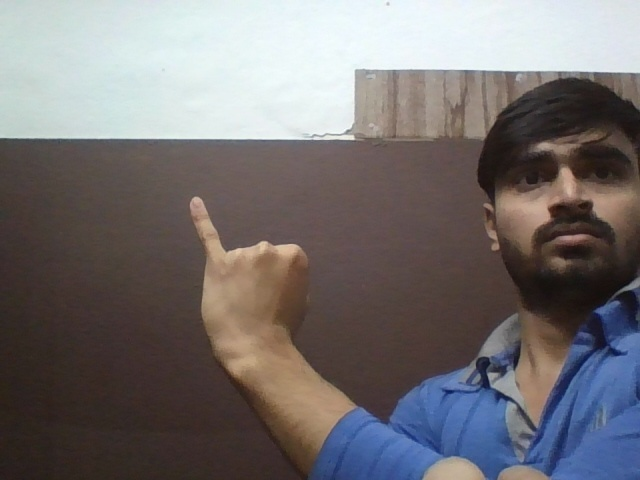J: (180, 192, 334, 351)
